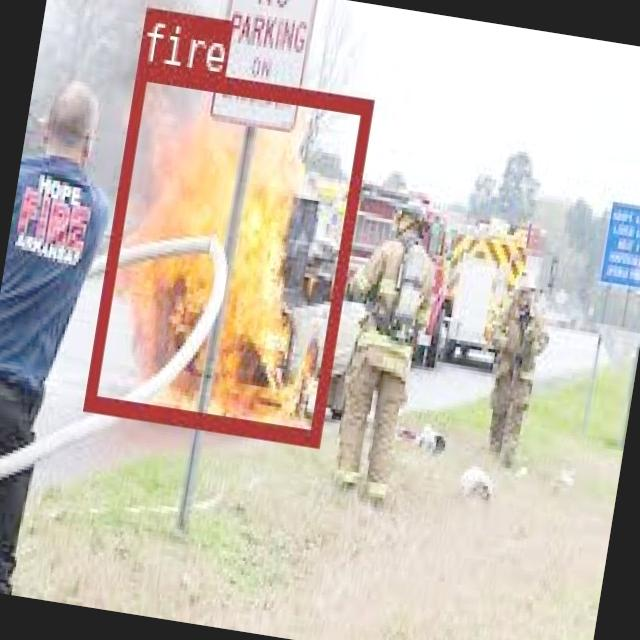fire: (84, 61, 372, 442)
